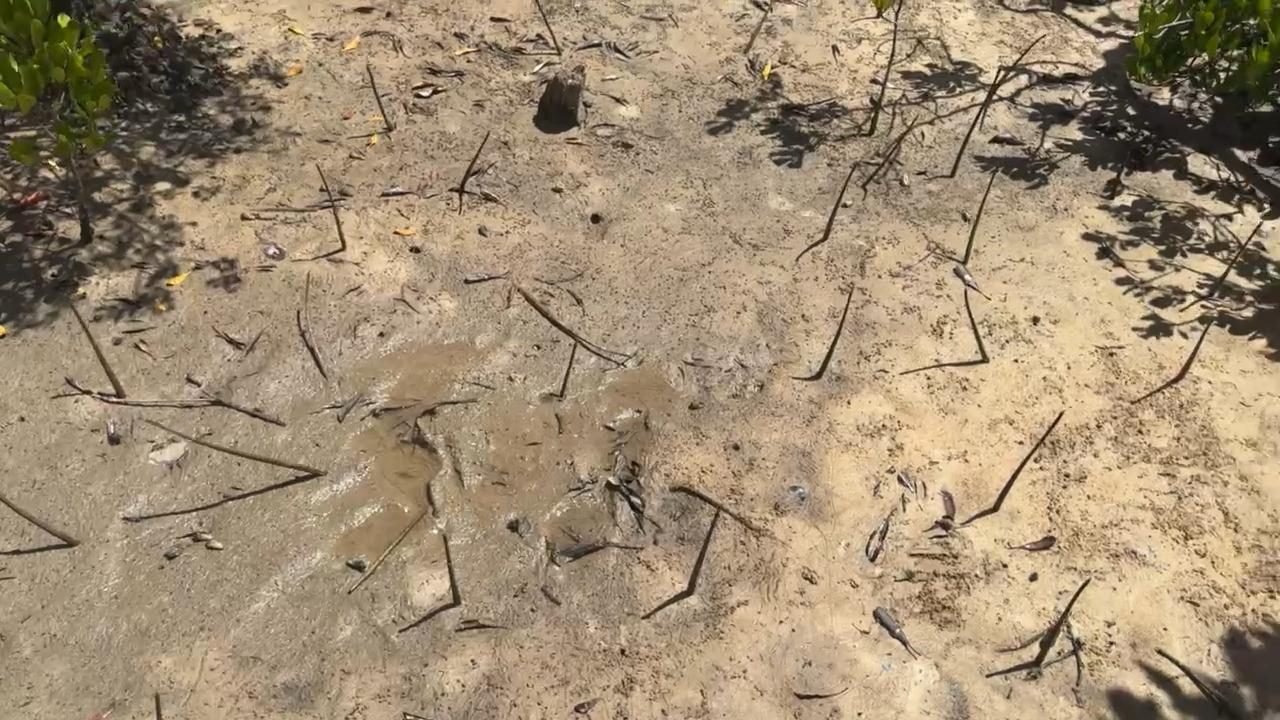Tree: (0, 0, 120, 245), (143, 416, 328, 475), (992, 408, 1066, 512), (949, 68, 1002, 177), (67, 304, 127, 397), (1030, 576, 1091, 663), (867, 0, 904, 136), (861, 114, 921, 189), (1208, 219, 1264, 296), (961, 161, 1001, 264), (0, 493, 79, 545), (991, 33, 1046, 94), (818, 285, 855, 373), (686, 505, 722, 595), (822, 161, 860, 241), (314, 162, 347, 248), (304, 270, 328, 379), (1175, 320, 1214, 380), (459, 130, 491, 192), (963, 287, 989, 362), (365, 62, 393, 130), (441, 533, 462, 605), (535, 0, 561, 55), (559, 341, 578, 396), (153, 692, 162, 720)
